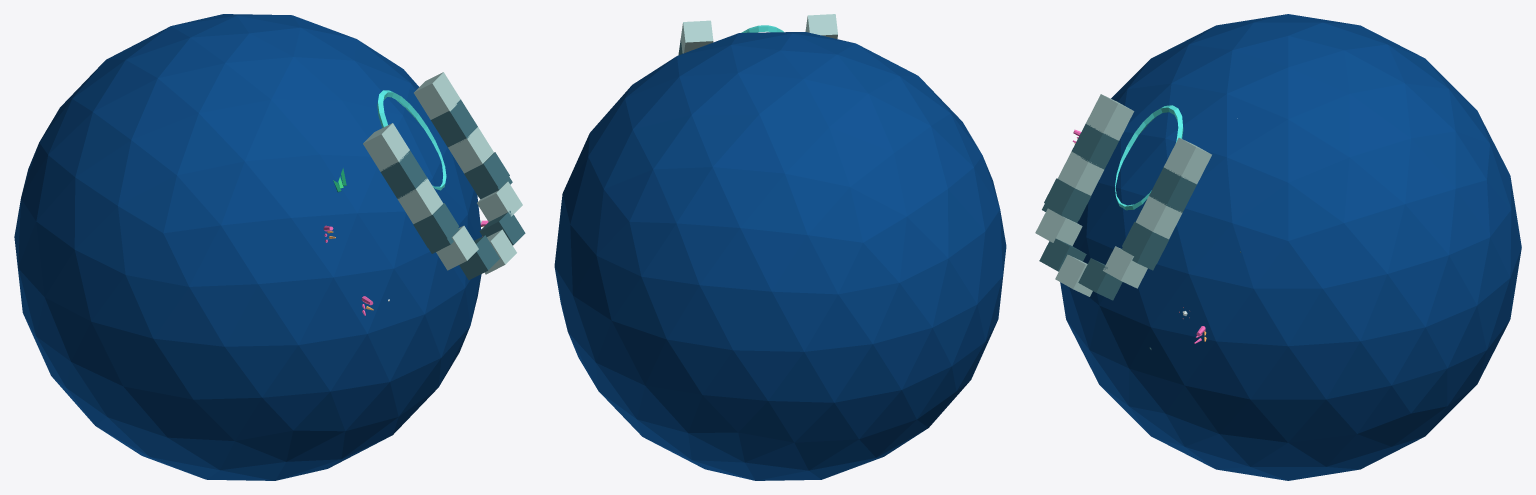
Rendered from Ocean_05.fbx.
3 renders of one model, left to right at view 1: azimuth 30°, elevation 25°; view 2: azimuth 150°, elevation 25°; view 3: azimuth 270°, elevation 25°, orthographic. The views are drawn at different scales.
Visible parts, largest first — view 1: Ocean_05; view 2: Ocean_05; view 3: Ocean_05.
Boxes of the visible parts, box(x1,y1,x2,y2) form: Ocean_05: box(14, 14, 525, 480); Ocean_05: box(554, 14, 1006, 480); Ocean_05: box(1035, 14, 1521, 480).
Size of the model in its own units: 6 by 6 by 6.25.
Materials: 1 (1 with a texture image).
